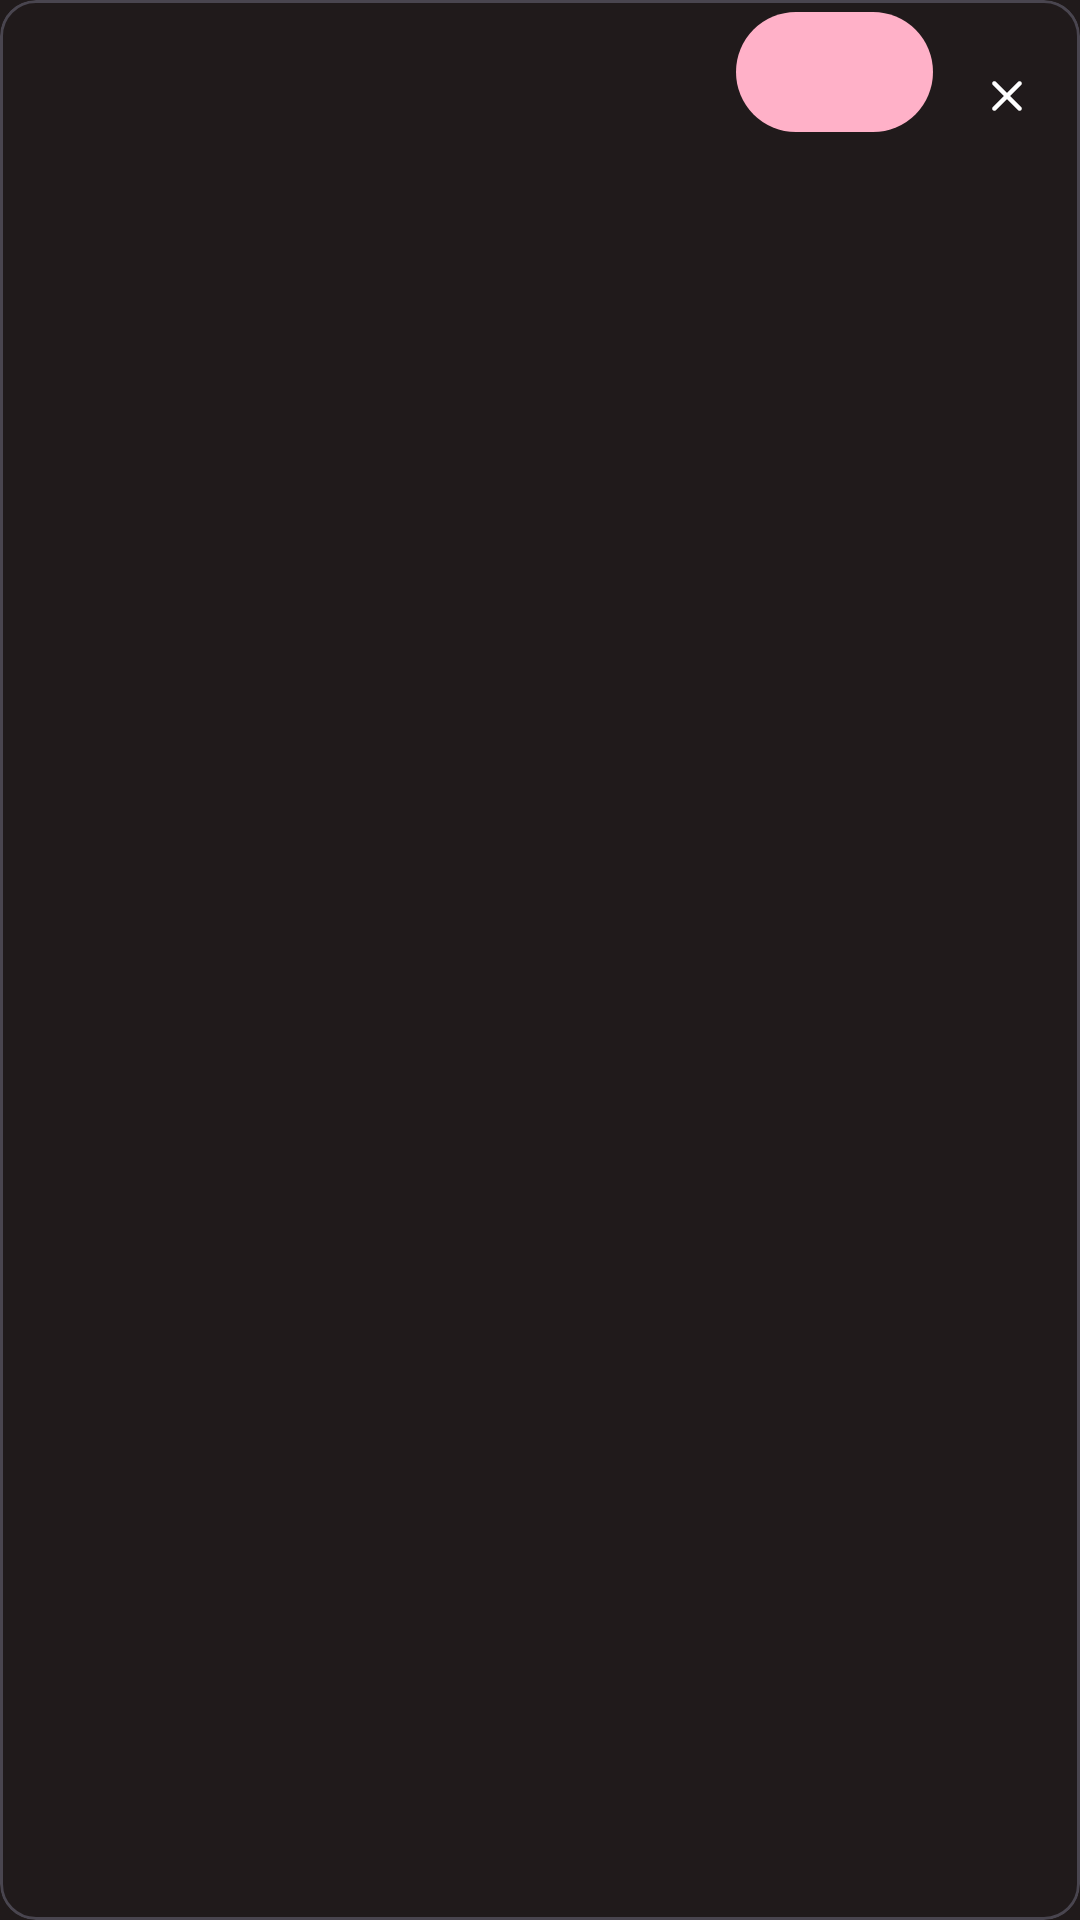

Named icons in this screenshot (1080x1920) and their centers, (x,y):
close: (1007,96)
